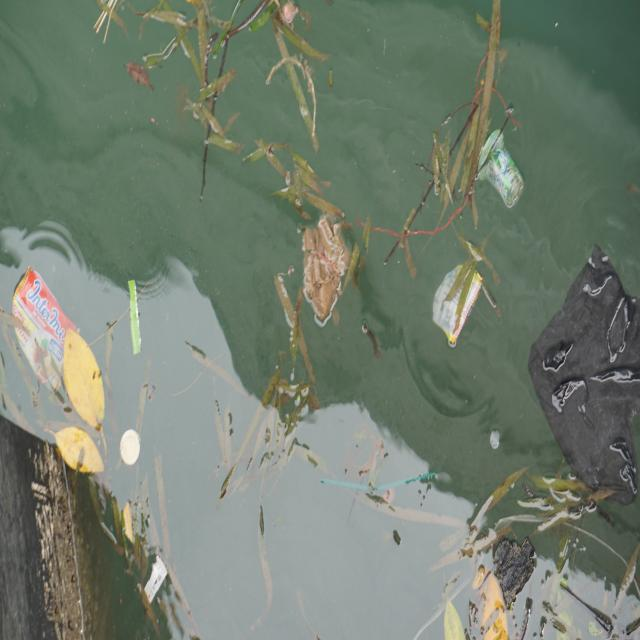Botol Plastik: (117, 423, 144, 473)
Bungkus Makanan: (12, 262, 81, 396), (430, 262, 483, 347)
Bungkus Minuman: (476, 126, 527, 212)
Kantong Plastik: (526, 244, 640, 501)
